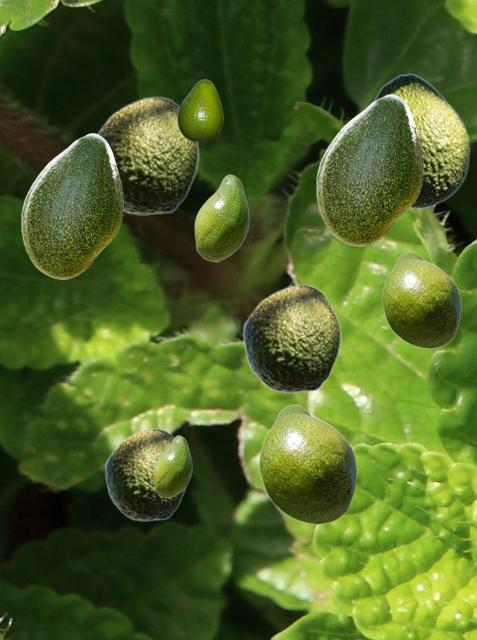avocado: (316, 94, 422, 245), (21, 133, 122, 278), (371, 73, 469, 208), (95, 96, 198, 214), (258, 404, 356, 524), (242, 284, 340, 392), (381, 251, 460, 348), (104, 428, 187, 520), (194, 174, 248, 261), (177, 79, 222, 140), (153, 435, 191, 497)
